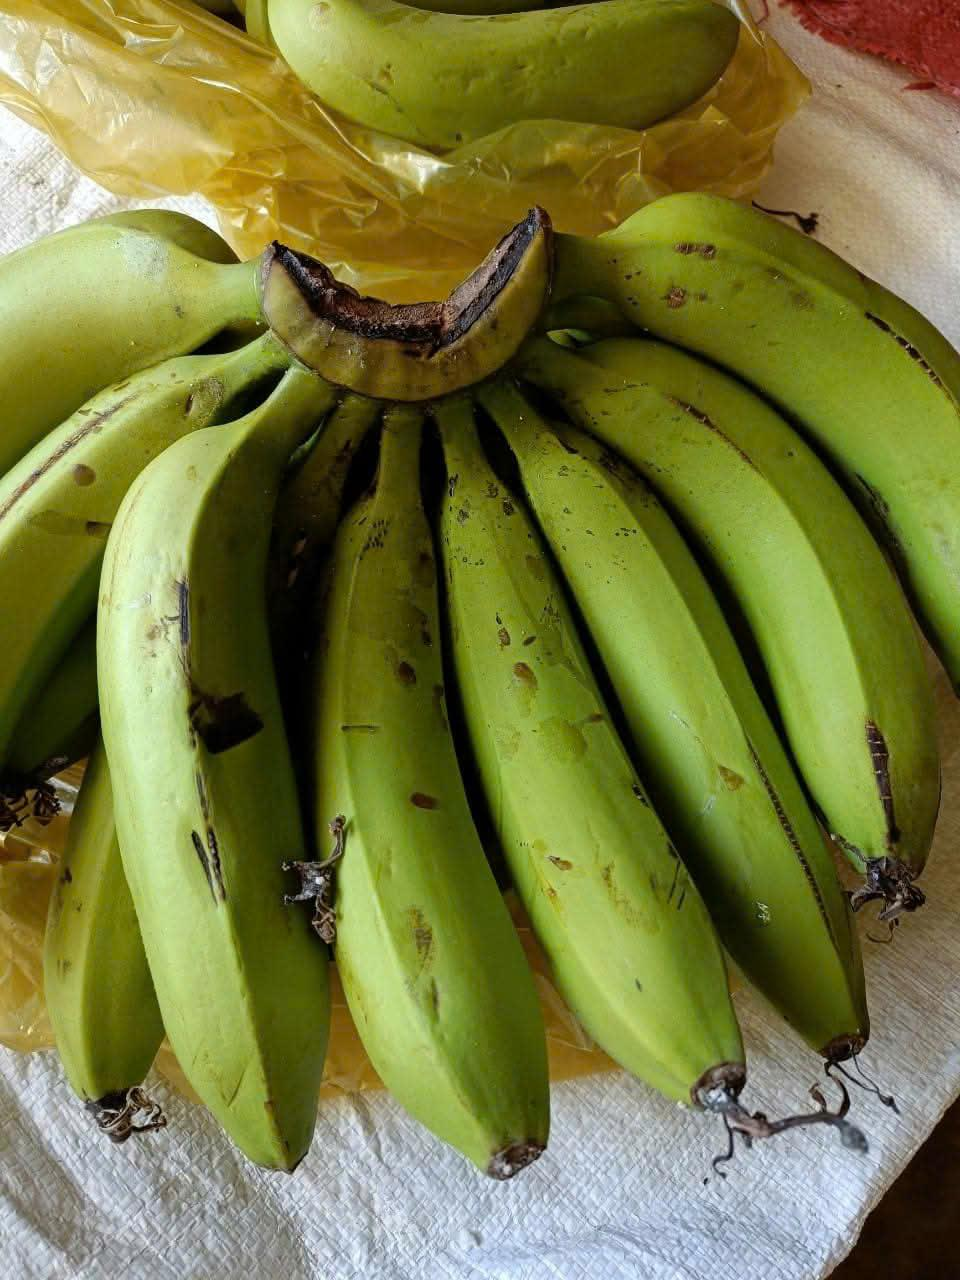banana: (0, 200, 381, 1200), (393, 224, 775, 1193), (593, 216, 960, 1078)
